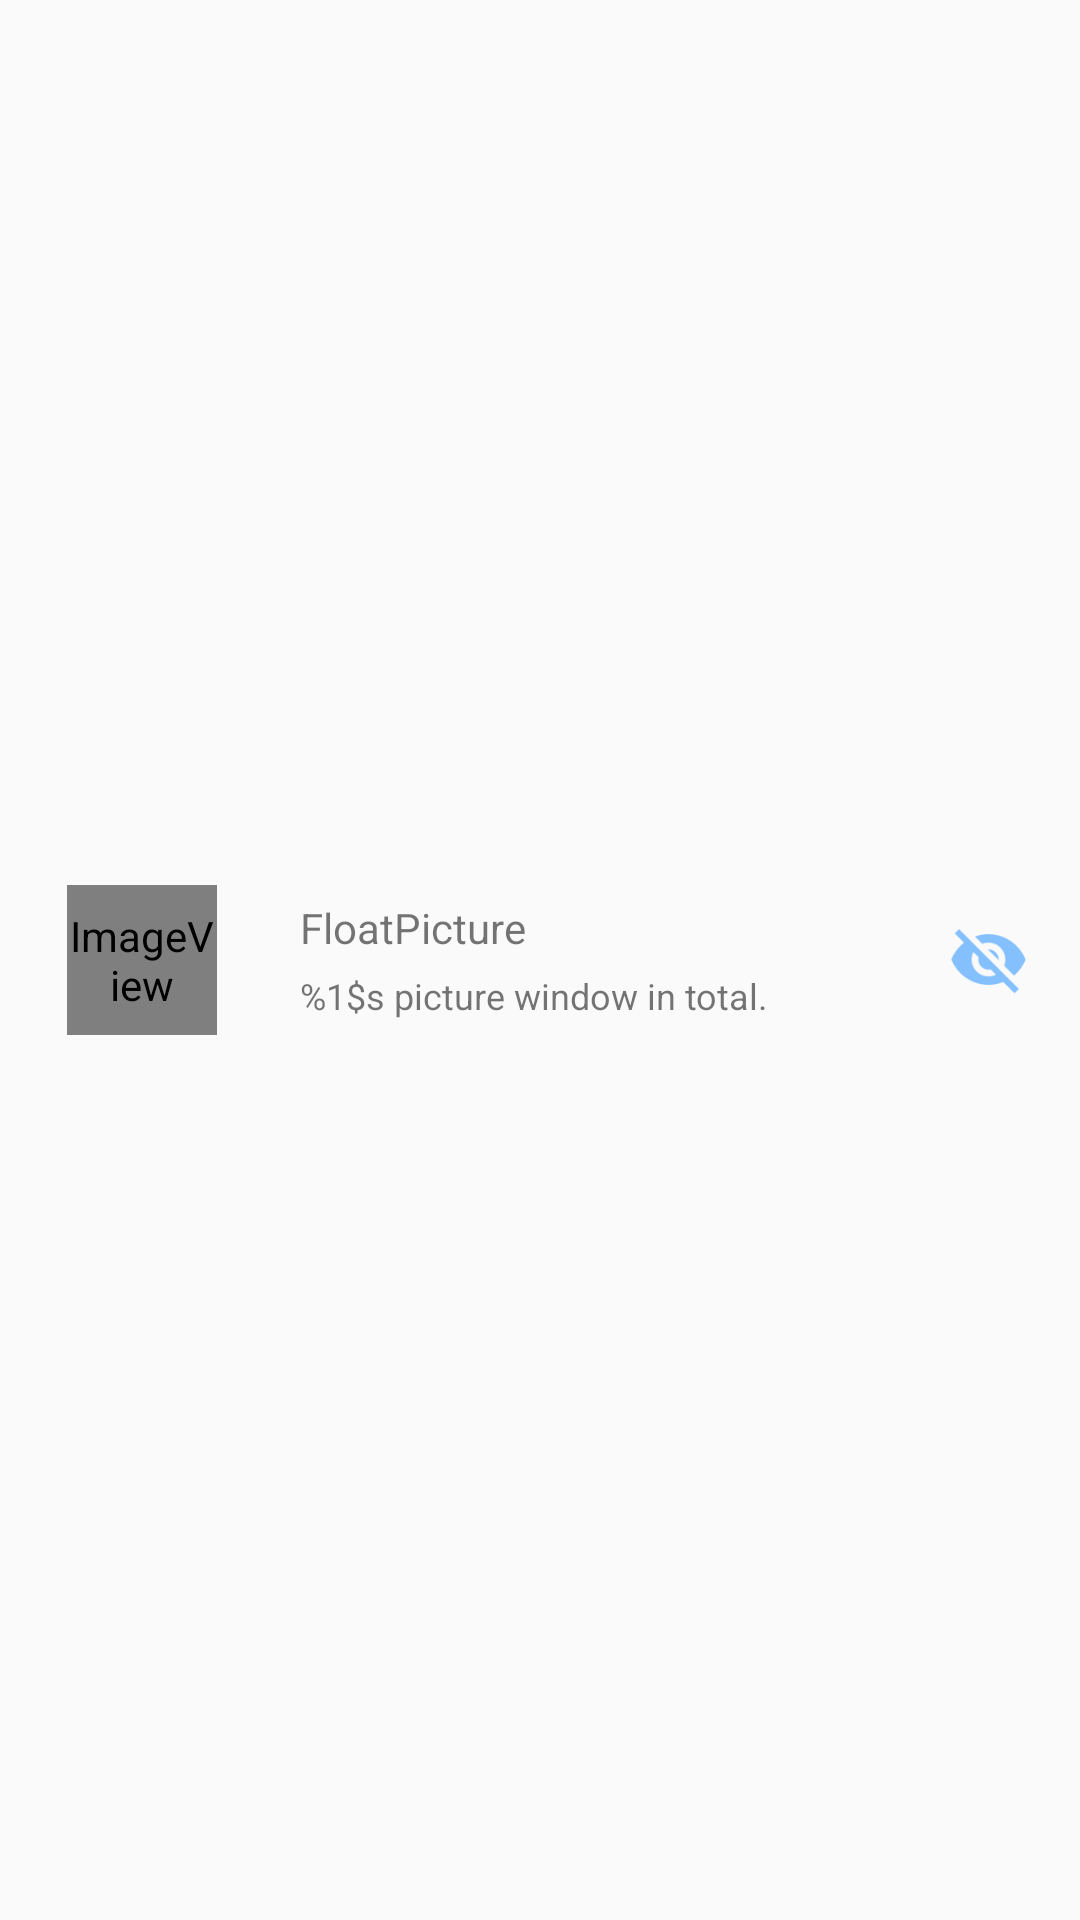

Screen size 1080 × 1920. Icon name, then its center in pixels as point (x, y):
Set all picture visibility: point (988, 961)
